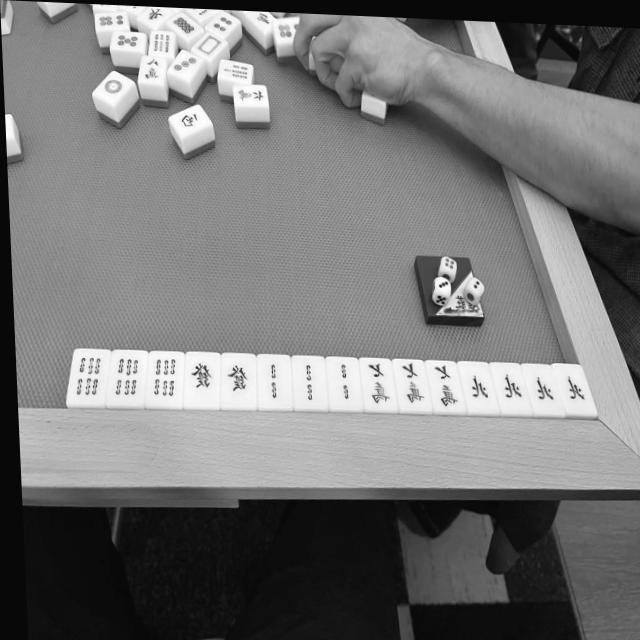bai: (192, 32, 226, 60)
fa: (222, 356, 253, 401), (186, 357, 216, 397)
m6: (233, 85, 267, 106)
m7: (431, 362, 460, 409), (398, 360, 426, 408), (365, 359, 393, 406)
m8: (137, 55, 164, 85)
north: (498, 367, 525, 409), (563, 366, 589, 408), (531, 369, 557, 408), (467, 368, 492, 408)
s2: (259, 357, 288, 405), (294, 359, 323, 406), (329, 358, 357, 405)
s6: (71, 351, 105, 399), (111, 353, 143, 400), (149, 354, 180, 401)
s7: (218, 60, 252, 83)
s9: (150, 31, 173, 55)
t1: (93, 71, 134, 106)
t3: (167, 48, 202, 82)
t4: (204, 11, 239, 39)
t5: (111, 32, 145, 52)
t6: (94, 11, 128, 28)
t8: (166, 12, 203, 42)
west: (168, 103, 212, 139)
